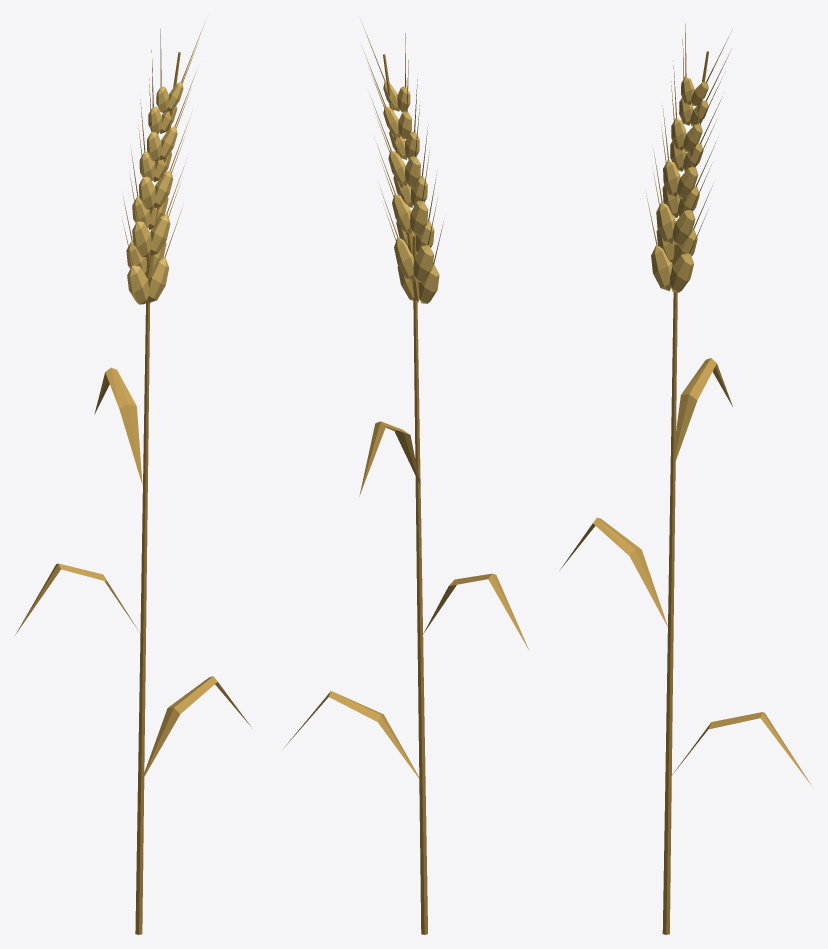
Rendered from wheat.glb.
3 views of the same model, side by side, from view 1: azimuth 30°, elevation 25°; view 2: azimuth 150°, elevation 25°; view 3: azimuth 330°, elevation 25° (orthographic). The views are drawn at different scales.
Visible parts, largest first — view 1: Wheat_Plant; view 2: Wheat_Plant; view 3: Wheat_Plant.
Part boxes in pixels (x1,y1,x2,y2): Wheat_Plant: (15,23,252,934); Wheat_Plant: (284,19,528,934); Wheat_Plant: (560,23,812,934).
Bounding box in the file's own units: 0.6369 × 2.25 × 0.2747.
